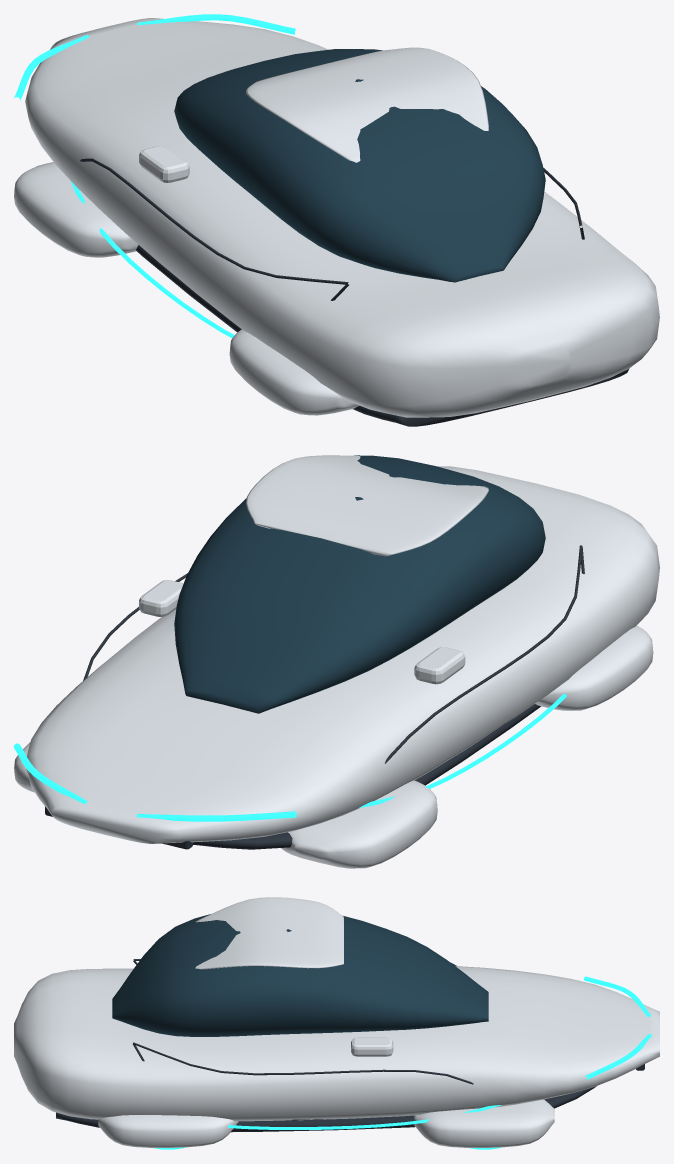
The model's file is induction_car.gltf.
The picture shows the model from 3 angles, top to bottom: view 1: azimuth 30°, elevation 25°; view 2: azimuth 150°, elevation 25°; view 3: azimuth 270°, elevation 25°; orthographic projection. The views are drawn at different scales.
Visible parts, largest first — view 1: induction_car; view 2: induction_car; view 3: induction_car.
Part boxes in pixels (<box>): induction_car: <box>14,14,659,426</box>; induction_car: <box>14,455,659,868</box>; induction_car: <box>14,897,659,1149</box>.
Bounding box in the file's own units: 2.25 × 1.25 × 4.6.
